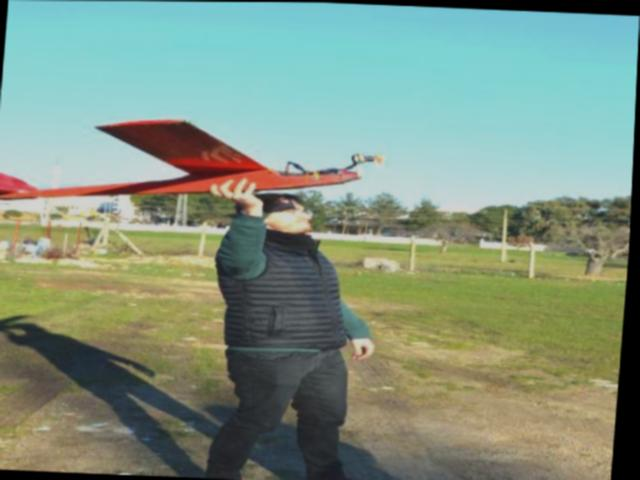iha: (0, 111, 398, 217)
